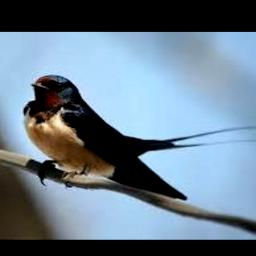Swallow: (24, 74, 256, 201)
